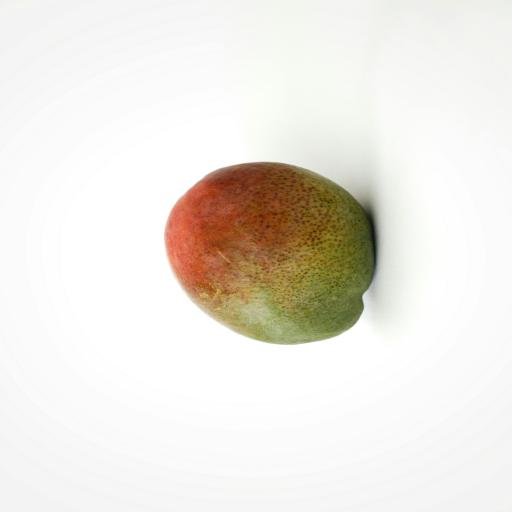Mango-Detection: (78, 111, 462, 397)
